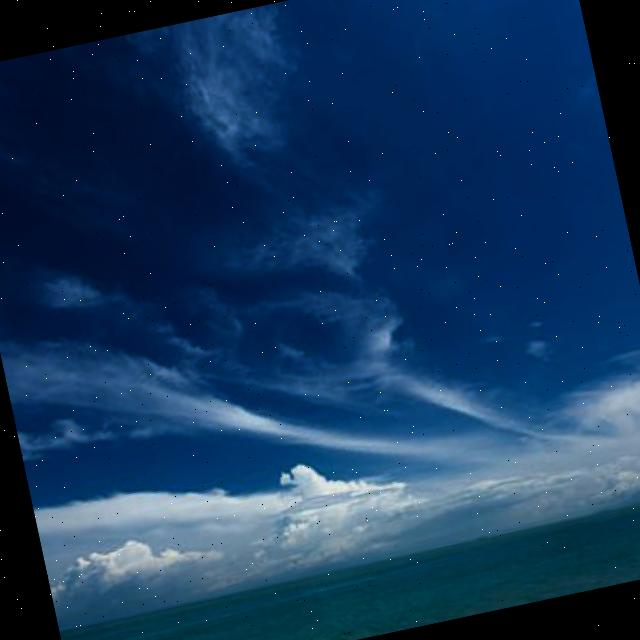Ci: (1, 21, 640, 614)
